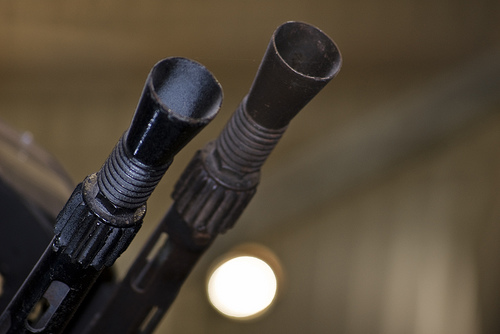rifle: (11, 23, 356, 329)
